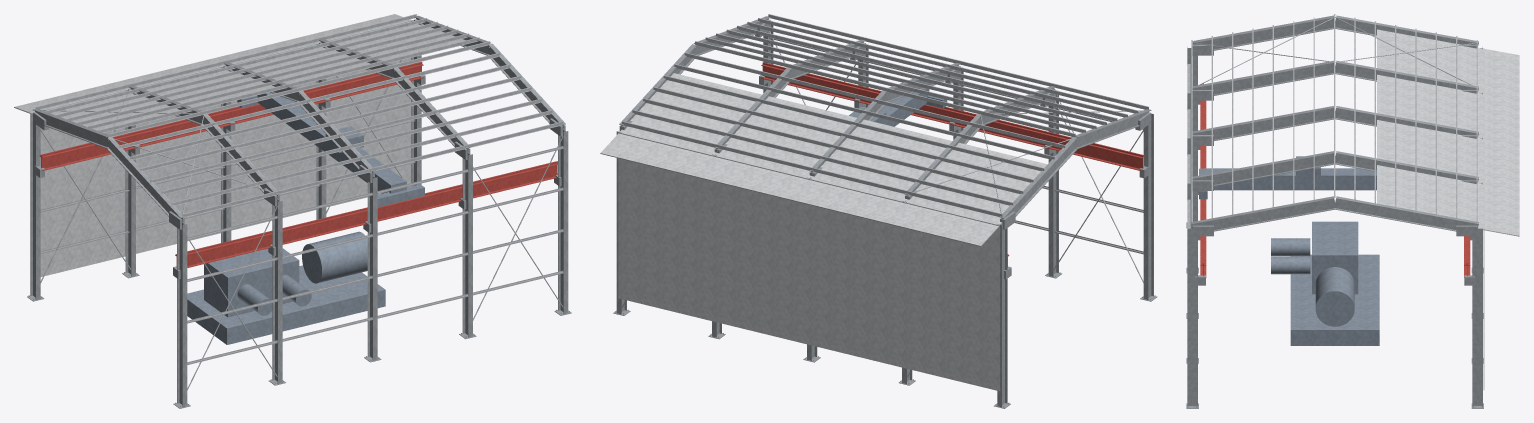
File: compressor-station-frames.glb
3 renders of one model, left to right at view 1: azimuth 30°, elevation 25°; view 2: azimuth 150°, elevation 25°; view 3: azimuth 270°, elevation 25°, orthographic. The views are drawn at different scales.
Parts seen in each view (by area): view 1: Cladding(part), Purlins&Girts, PortalFrames, Compressor(context), CraneRunwayGirders, OverheadCrane(context), Roof&WallBracing; view 2: Cladding(part), Purlins&Girts, PortalFrames, CraneRunwayGirders, Roof&WallBracing, OverheadCrane(context); view 3: Cladding(part), PortalFrames, Compressor(context), Purlins&Girts, OverheadCrane(context), CraneRunwayGirders, Roof&WallBracing.
Boxes of the visible parts, x1,y1,x2,y2 form: Cladding(part): (14,14,465,276); Purlins&Girts: (35,14,563,364); PortalFrames: (27,15,571,408); Compressor(context): (187,231,385,344); CraneRunwayGirders: (39,62,557,267); OverheadCrane(context): (237,92,424,207); Roof&WallBracing: (35,60,563,390); Cladding(part): (600,73,1047,390); Purlins&Girts: (622,14,1148,254); PortalFrames: (613,16,1157,408); CraneRunwayGirders: (761,62,1144,267); Roof&WallBracing: (621,31,1143,377); OverheadCrane(context): (849,88,947,126); Cladding(part): (1377,29,1519,389); PortalFrames: (1186,15,1483,408); Compressor(context): (1271,221,1379,345); Purlins&Girts: (1187,14,1477,228); OverheadCrane(context): (1199,156,1376,199); CraneRunwayGirders: (1200,83,1470,277); Roof&WallBracing: (1192,17,1477,401).
Bounding box in the file's own units: 24.7 × 13.11 × 18.7.
5 materials, 5 textured.
